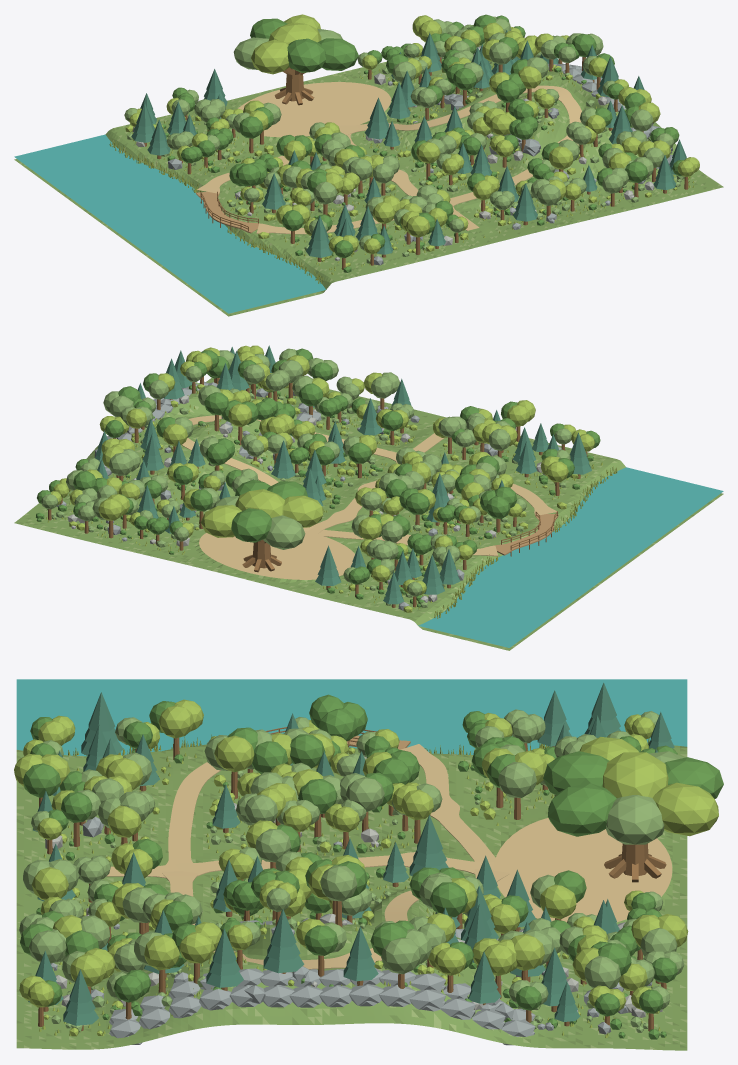
The model's file is forest_world.glb.
The picture shows the model from 3 angles, top to bottom: view 1: azimuth 30°, elevation 25°; view 2: azimuth 150°, elevation 25°; view 3: azimuth 270°, elevation 25°; orthographic projection. The views are drawn at different scales.
Visible parts, largest first — view 1: Terrain_120x90, Water_Lake, AncientTree_Clearing, Path_Highland, AncientTree_Crown.005, AncientTree_Crown.004, AncientTree_Crown.006, AncientTree_CrownTop, AncientTree_Crown.003, AncientTree_Crown.002; view 2: Terrain_120x90, Water_Lake, AncientTree_Clearing, AncientTree_Crown.002, AncientTree_Crown.003, AncientTree_Crown.004, AncientTree_CrownTop, AncientTree_Crown.001, Path_Highland, Path_Forest, Path_WaterNorth, Path_WaterSouth (+1 smaller); view 3: Terrain_120x90, Water_Lake, AncientTree_Clearing, AncientTree_Crown.006, AncientTree_Crown.001, Path_WaterNorth, AncientTree_CrownTop, Path_WaterSouth, AncientTree_Crown, Path_Highland, AncientTree_Crown.005, AncientTree_Crown.002 (+49 smaller).
Boxes of the visible parts, bbox=[...] form: Terrain_120x90: bbox=[14, 42, 723, 316]; Water_Lake: bbox=[14, 134, 325, 313]; AncientTree_Clearing: bbox=[238, 82, 391, 137]; Path_Highland: bbox=[339, 85, 581, 206]; AncientTree_Crown.005: bbox=[287, 38, 325, 72]; AncientTree_Crown.004: bbox=[251, 39, 289, 74]; AncientTree_Crown.006: bbox=[318, 38, 358, 70]; AncientTree_CrownTop: bbox=[268, 22, 321, 43]; AncientTree_Crown.003: bbox=[233, 37, 268, 69]; AncientTree_Crown.002: bbox=[250, 18, 287, 38]; Terrain_120x90: bbox=[14, 378, 723, 650]; Water_Lake: bbox=[418, 467, 723, 647]; AncientTree_Clearing: bbox=[199, 531, 354, 579]; AncientTree_Crown.002: bbox=[231, 508, 271, 542]; AncientTree_Crown.003: bbox=[263, 515, 305, 549]; AncientTree_Crown.004: bbox=[283, 495, 323, 527]; AncientTree_CrownTop: bbox=[235, 489, 284, 517]; AncientTree_Crown.001: bbox=[200, 505, 241, 537]; Path_Highland: bbox=[182, 415, 396, 531]; Path_Forest: bbox=[308, 461, 397, 533]; Path_WaterNorth: bbox=[318, 529, 497, 555]; Path_WaterSouth: bbox=[510, 484, 556, 515]; Terrain_120x90: bbox=[16, 744, 687, 1050]; Water_Lake: bbox=[16, 679, 687, 756]; AncientTree_Clearing: bbox=[493, 818, 672, 922]; AncientTree_Crown.006: bbox=[548, 783, 616, 836]; AncientTree_Crown.001: bbox=[652, 782, 718, 836]; Path_WaterNorth: bbox=[400, 744, 495, 861]; AncientTree_CrownTop: bbox=[602, 752, 668, 797]; Path_WaterSouth: bbox=[162, 762, 219, 871]; AncientTree_Crown: bbox=[606, 795, 664, 844]; Path_Highland: bbox=[162, 869, 510, 968]; AncientTree_Crown.005: bbox=[543, 751, 609, 794]; AncientTree_Crown.002: bbox=[664, 757, 723, 798].
Bounding box in the file's own units: 120 × 19.52 × 95.27.
